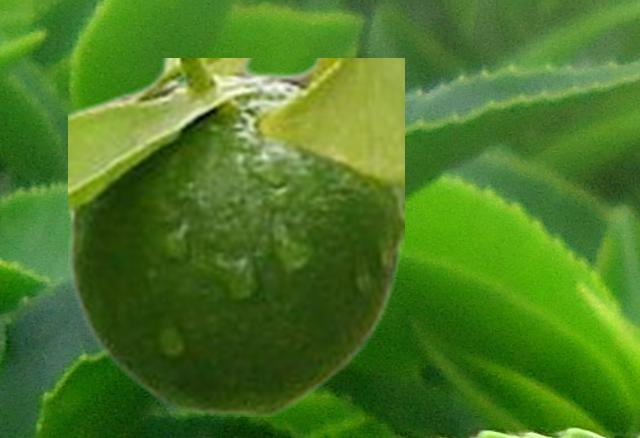dalandan: (68, 58, 403, 415)
